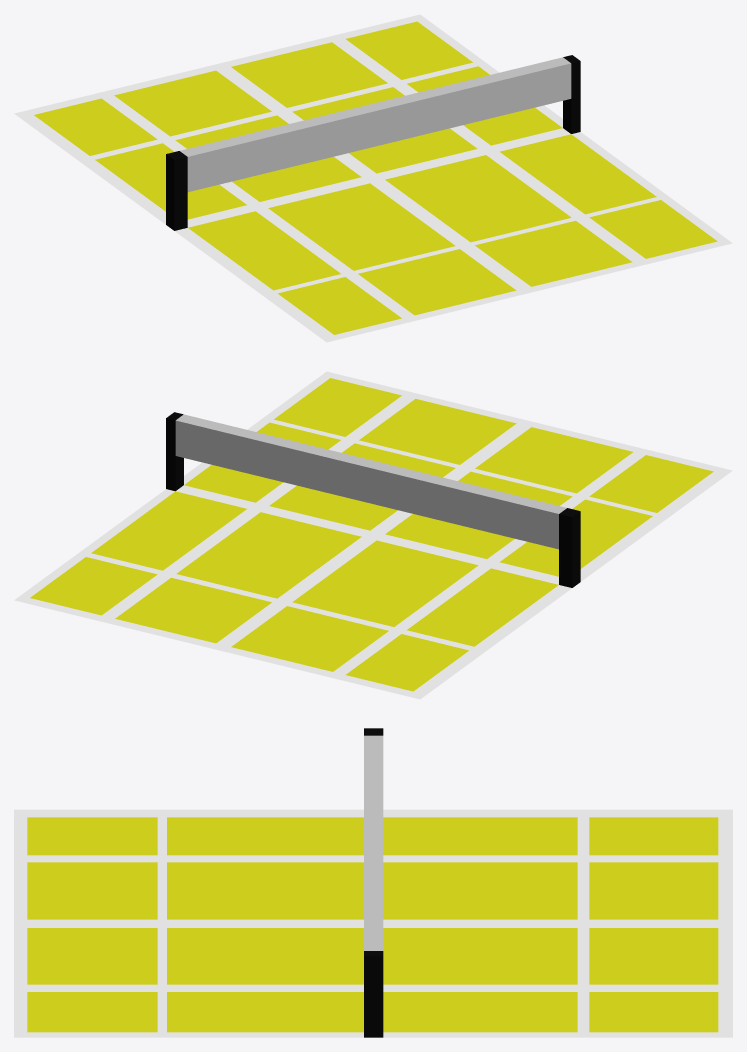
File: tenniscourt.fbx
The picture shows the model from 3 angles, top to bottom: view 1: azimuth 30°, elevation 25°; view 2: azimuth 150°, elevation 25°; view 3: azimuth 270°, elevation 25°; orthographic projection. The views are drawn at different scales.
Parts seen in each view (by area): view 1: FixedTennis; view 2: FixedTennis; view 3: FixedTennis.
Boxes of the visible parts, x1,y1,x2,y2 form: FixedTennis: (14,14,732,342); FixedTennis: (14,371,732,699); FixedTennis: (14,728,732,1037).
Size of the model in its own units: 3 by 0.5 by 4.
